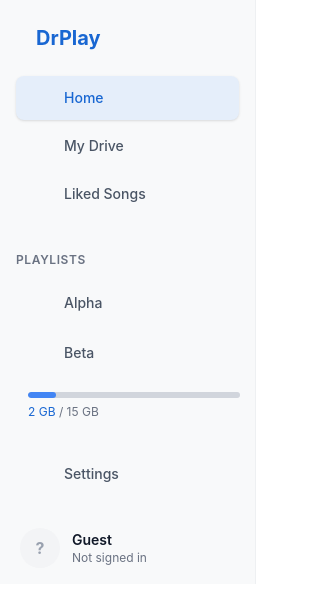
Test: Sidebar playlist more menu › Rename cancel: unchanged name writes nothing and closes the input
Right-click the button "Alpha" at (83, 302), box [64,294,102,311]
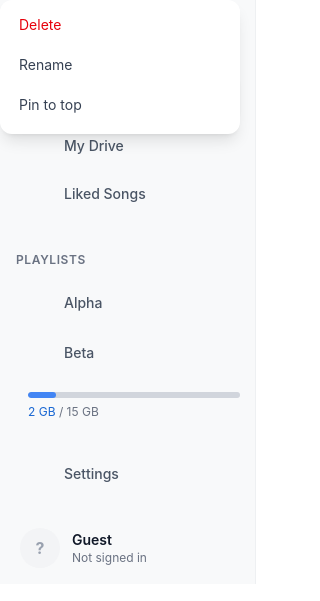
Click the menu item "Rename" at (120, 65), box [7,47,233,83]
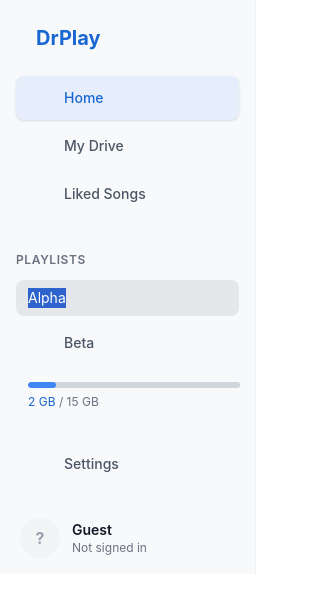
Leave the field named "Rename", box [16,280,239,316]
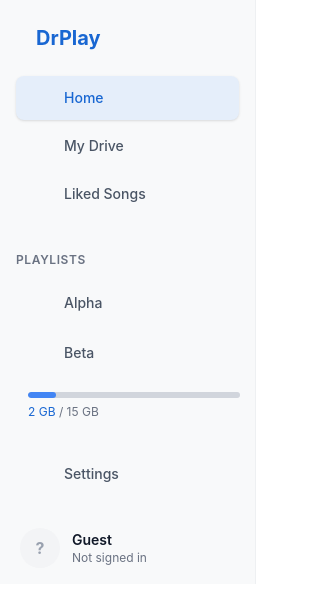
Expected: the field labelled "Rename" is gone
